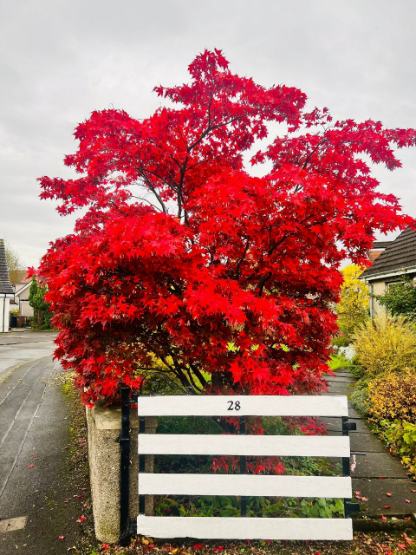tree: (30, 31, 413, 397)
